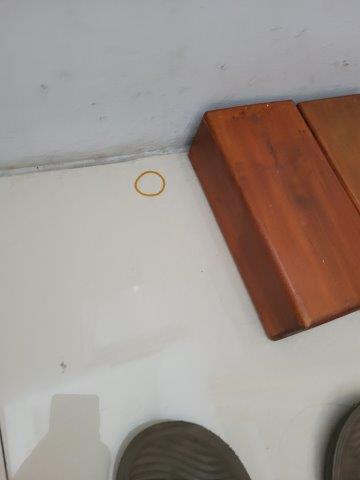karet: (132, 171, 168, 197)
